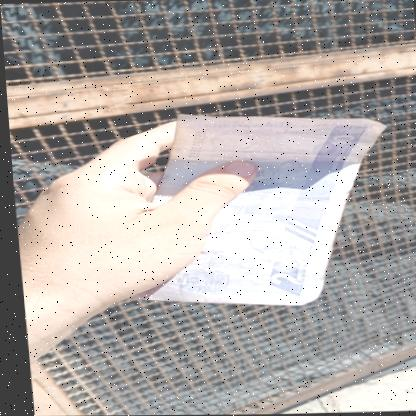vef_back: (114, 109, 399, 310)
